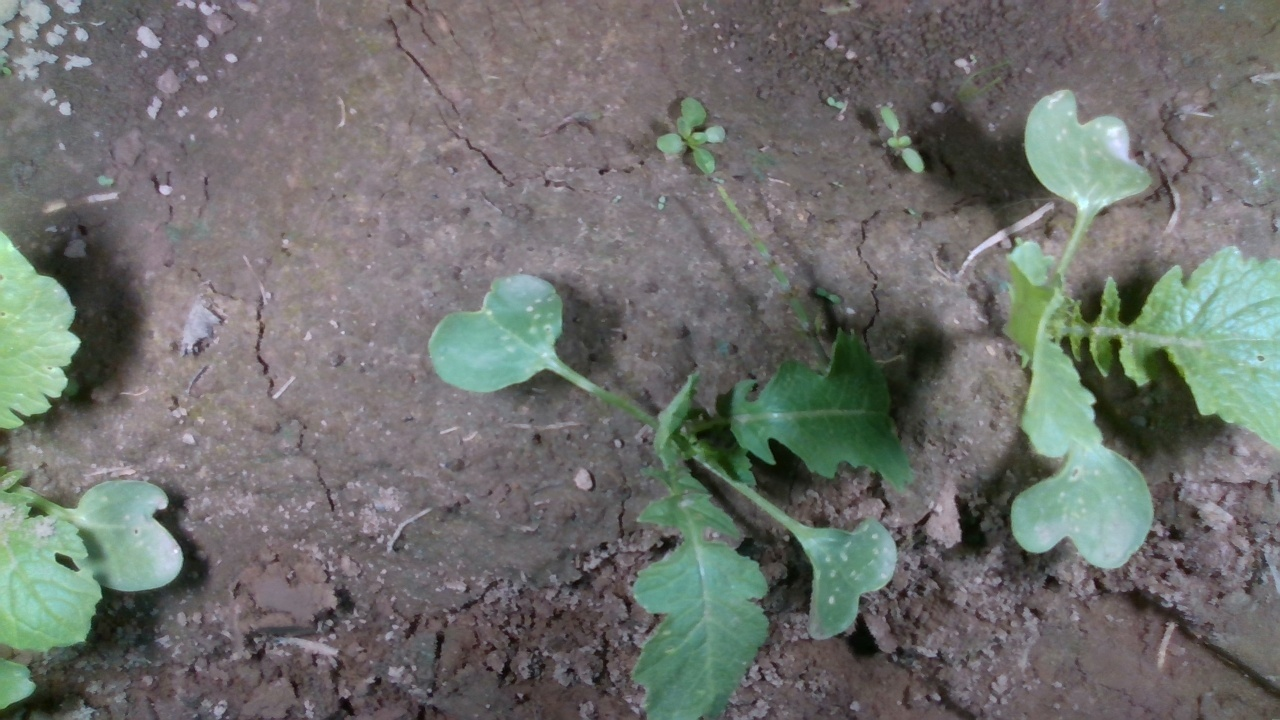weed: (655, 92, 730, 177), (878, 103, 925, 176), (825, 95, 846, 111)
